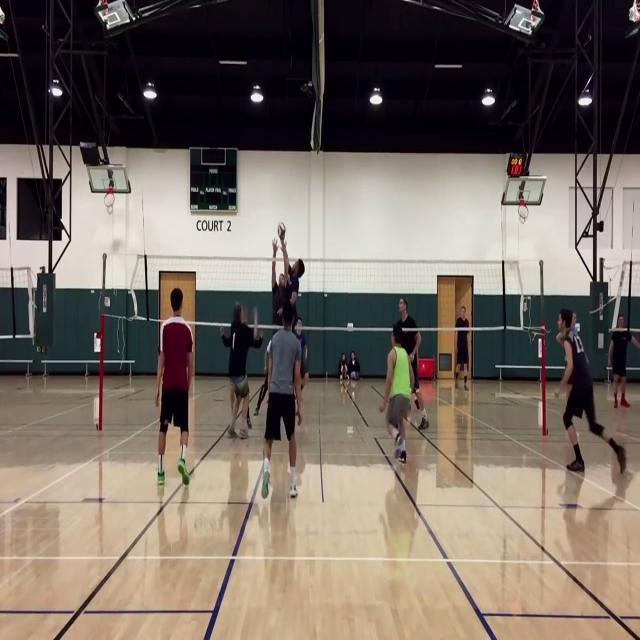volleyball: (277, 222, 286, 238)
